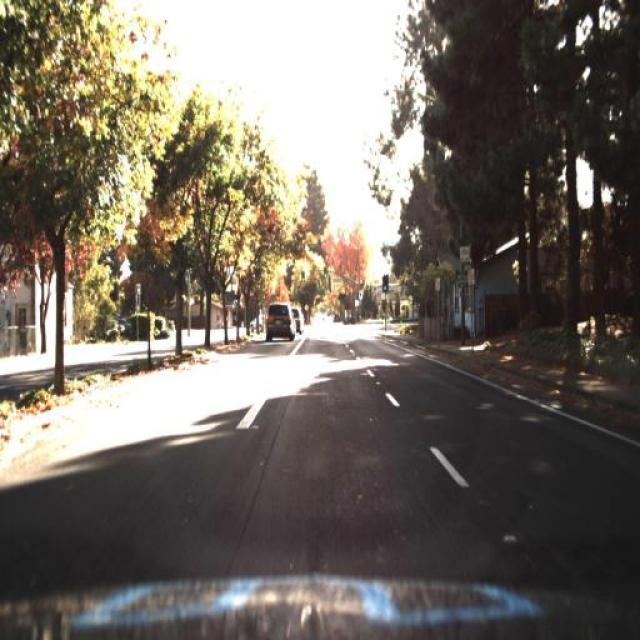car: (266, 301, 292, 347), (246, 310, 270, 334), (248, 314, 266, 334), (294, 305, 305, 336)
trafficLight-Green: (380, 274, 390, 294)
trafficLight-GreenLeft: (380, 273, 390, 297), (322, 262, 331, 286), (299, 263, 307, 286), (232, 288, 240, 307)
